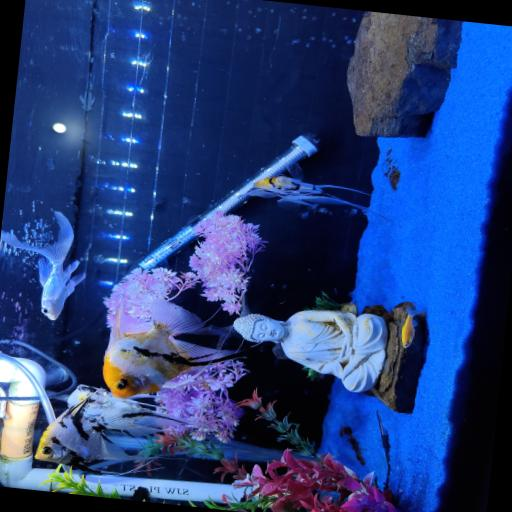Fish: (103, 298, 239, 398), (36, 386, 186, 472), (0, 212, 85, 320), (248, 164, 388, 220), (402, 307, 421, 348)
